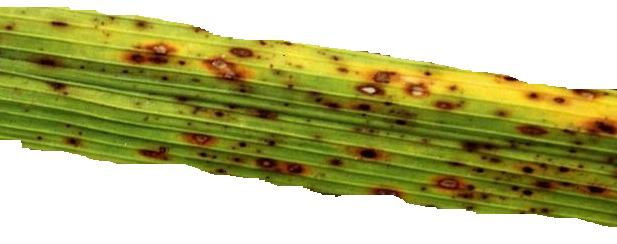brown_spot: (126, 36, 553, 216)
